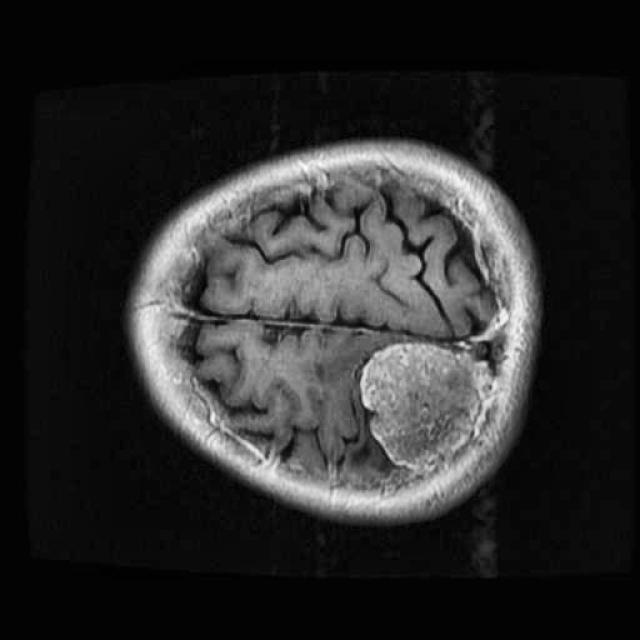Tumor: (351, 326, 508, 498)
